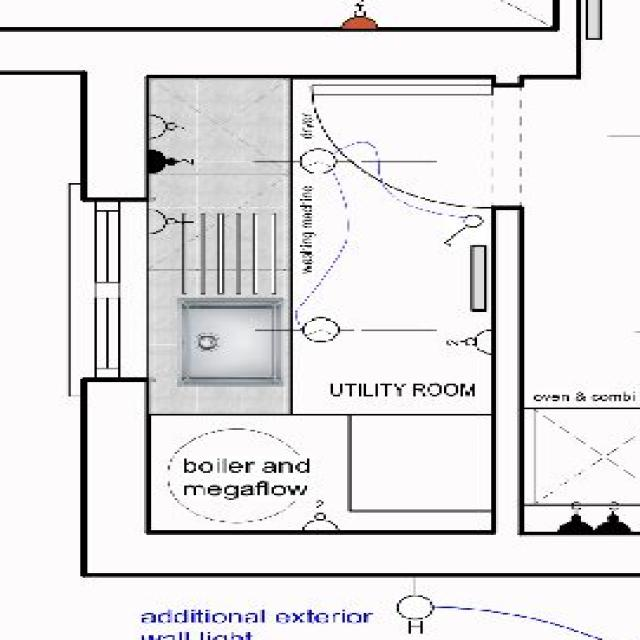Doors: (309, 84, 506, 215)
